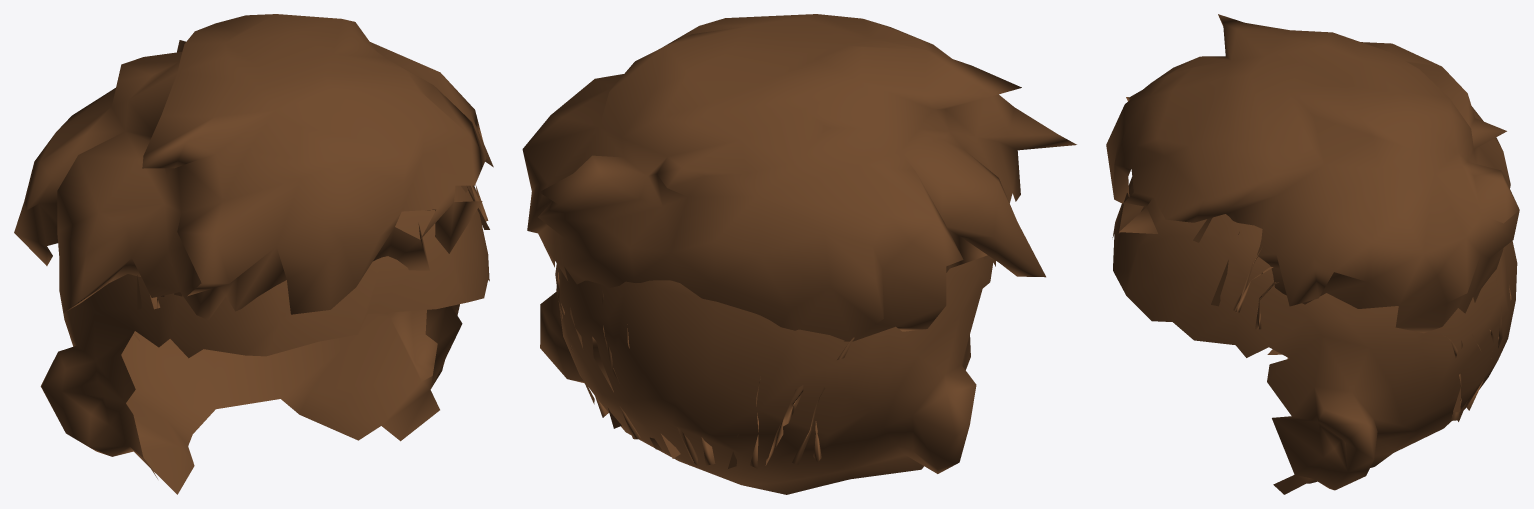
The model's file is short-fringe.glb.
The picture shows the model from 3 angles, left to right: view 1: azimuth 30°, elevation 25°; view 2: azimuth 150°, elevation 25°; view 3: azimuth 270°, elevation 25°; orthographic projection. The views are drawn at different scales.
Parts seen in each view (by area): view 1: Hair, HairScalp, HairPulledRootStrands; view 2: Hair, HairScalp, HairPulledRootStrands; view 3: Hair, HairScalp, HairPulledRootStrands.
Part boxes in pixels (left/top/right/bottom): Hair: left=14, top=14, right=493, bottom=320; HairScalp: left=40, top=185, right=489, bottom=494; HairPulledRootStrands: left=133, top=185, right=489, bottom=341; Hair: left=522, top=14, right=1076, bottom=341; HairScalp: left=540, top=257, right=995, bottom=494; HairPulledRootStrands: left=556, top=255, right=992, bottom=468; Hair: left=1106, top=14, right=1519, bottom=333; HairScalp: left=1112, top=177, right=1517, bottom=494; HairPulledRootStrands: left=1193, top=217, right=1511, bottom=421.
Size of the model in its own units: 0.4942 by 0.4314 by 0.4238.
